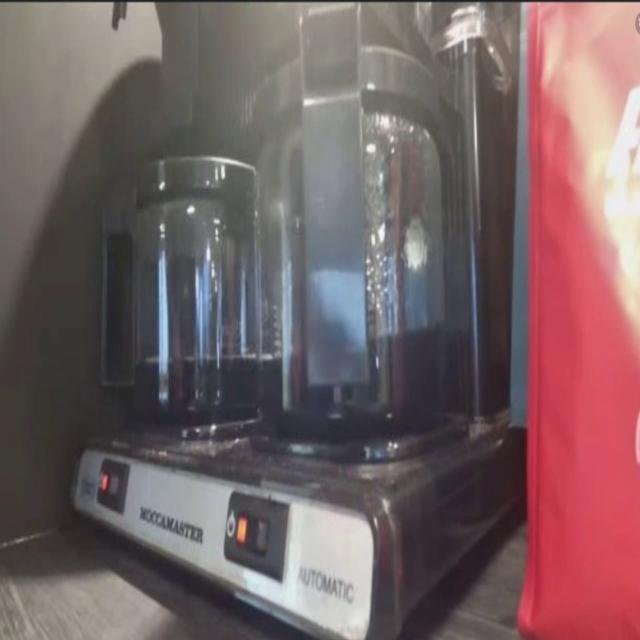coffee: (261, 145, 439, 435), (132, 207, 263, 426)
